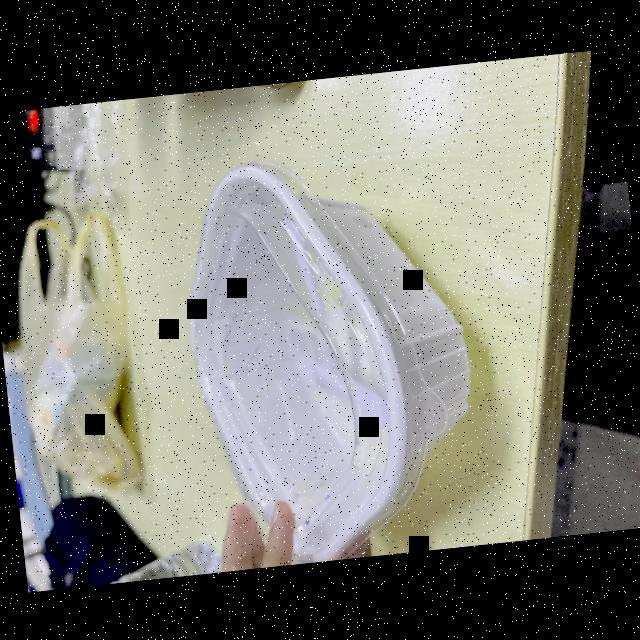plastic_box: (157, 133, 493, 574)
